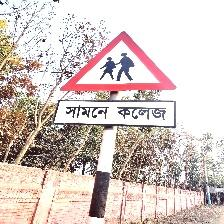College-in-front: (31, 38, 219, 145)
